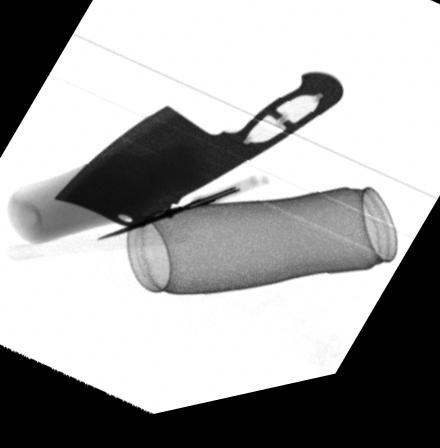Knife: (51, 85, 346, 237)
Scissors: (94, 130, 335, 245)
